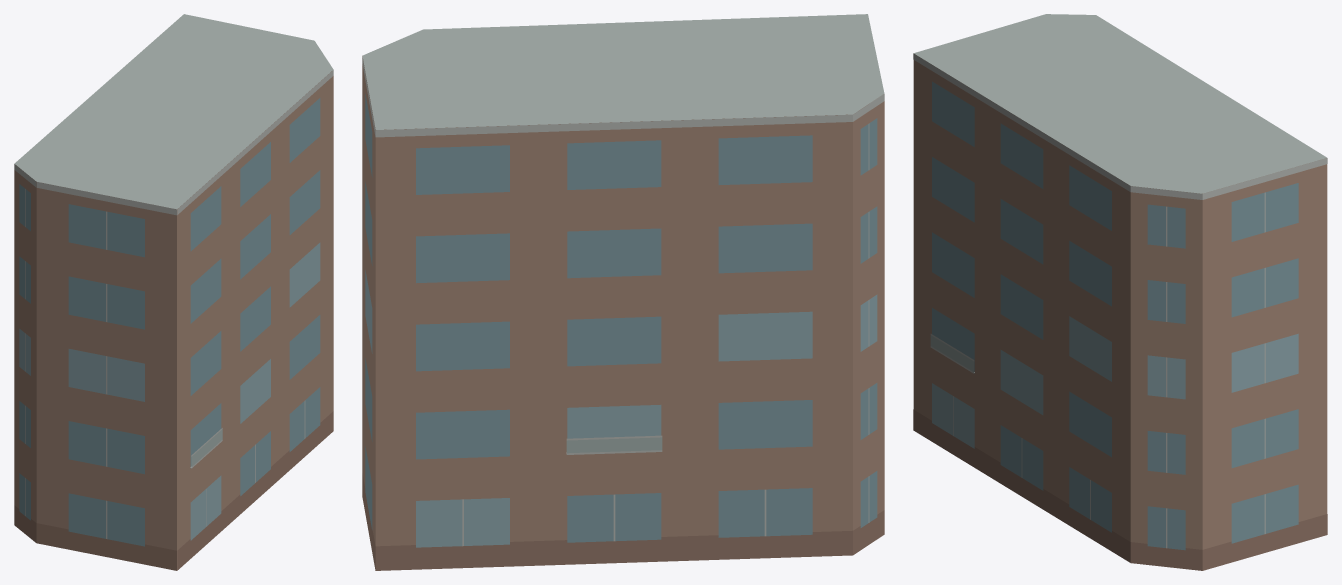
The model's file is survey-upis-32886081.glb.
The picture shows the model from 3 angles, left to right: view 1: azimuth 30°, elevation 25°; view 2: azimuth 150°, elevation 25°; view 3: azimuth 270°, elevation 25°; orthographic projection. The views are drawn at different scales.
Parts seen in each view (by area): view 1: survey-upis-32886081.tmp; view 2: survey-upis-32886081.tmp; view 3: survey-upis-32886081.tmp.
Part boxes in pixels (x1,y1,x2,y2): survey-upis-32886081.tmp: [14, 14, 333, 570]; survey-upis-32886081.tmp: [362, 14, 884, 570]; survey-upis-32886081.tmp: [913, 14, 1327, 570].
Bounding box in the file's own units: 14.88 × 14.55 × 14.49.
